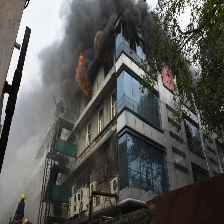fire: (70, 54, 90, 95)
smoke: (33, 1, 180, 84)
